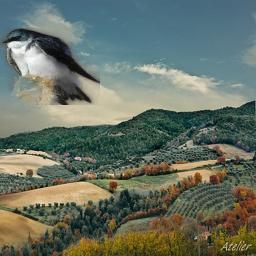Swallow: (0, 28, 100, 105)
